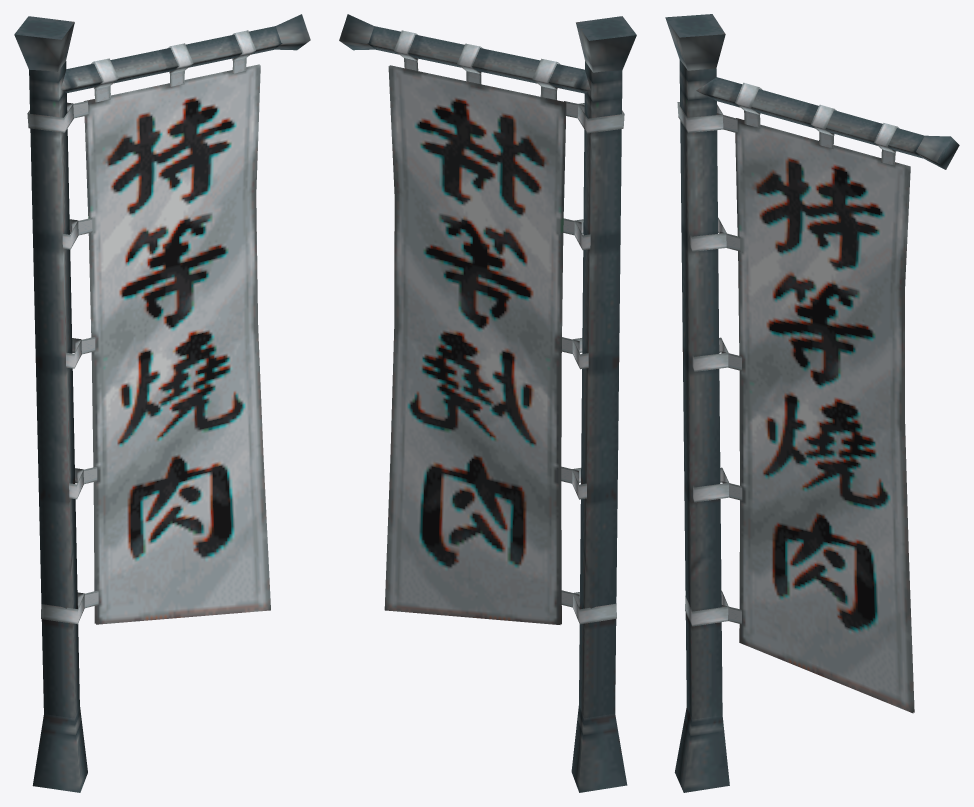
File: hbxz_wj023_02.FBX
3 views of the same model, side by side, from view 1: azimuth 30°, elevation 25°; view 2: azimuth 150°, elevation 25°; view 3: azimuth 330°, elevation 25° (orthographic).
Visible parts, largest first — view 1: hbxz_wj023_02; view 2: hbxz_wj023_02; view 3: hbxz_wj023_02.
Boxes of the visible parts, left/top/right/bottom form: hbxz_wj023_02: left=14, top=14, right=310, bottom=792; hbxz_wj023_02: left=339, top=14, right=636, bottom=792; hbxz_wj023_02: left=665, top=14, right=959, bottom=792.
Size of the model in its own units: 0.7007 by 1.75 by 0.1702.
Materials: 1 (1 with a texture image).
